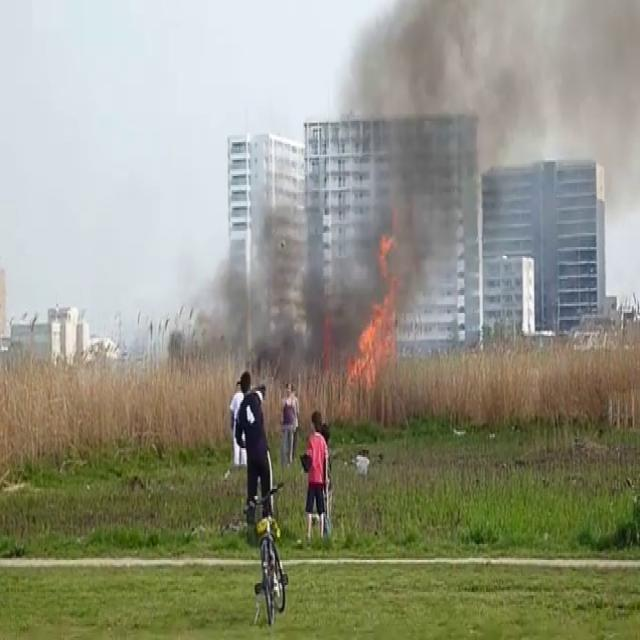Fire: (347, 228, 406, 391)
Smoke: (205, 0, 640, 358)
